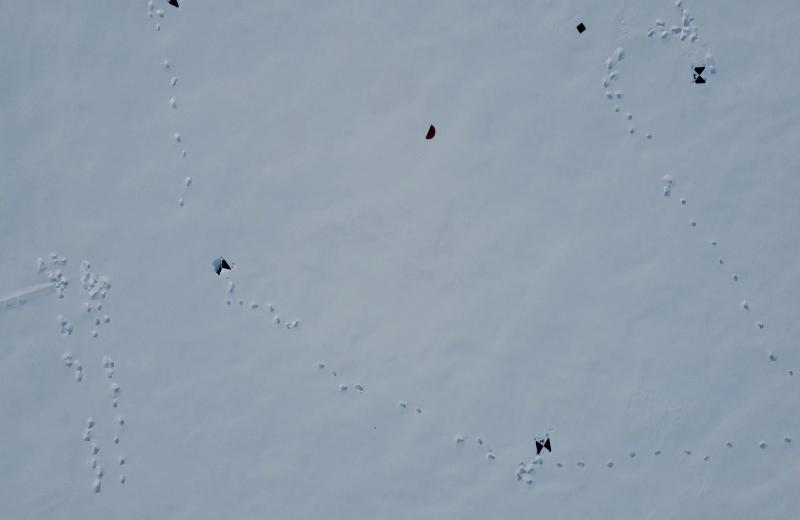Semi Circle: (425, 123, 437, 140)
Square: (575, 21, 587, 35)
